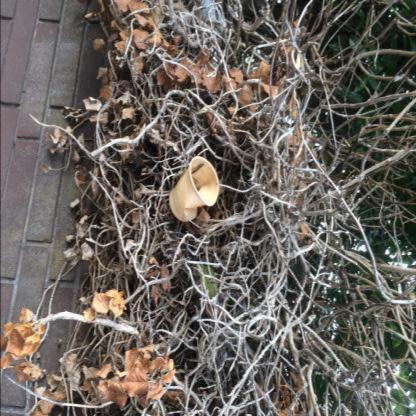Cup: (169, 156, 219, 222)
